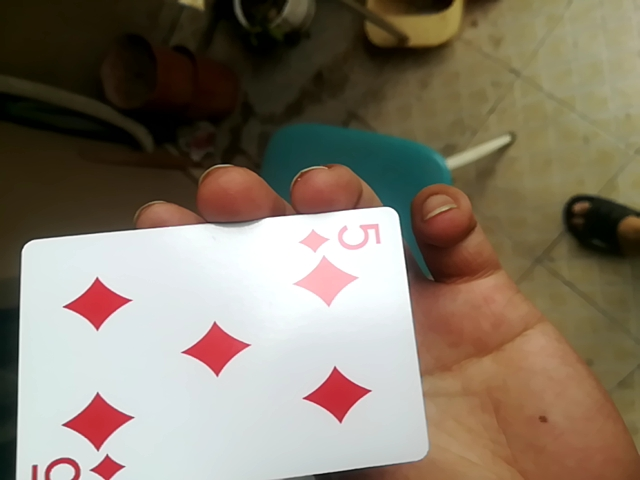fk 5: (12, 198, 428, 480)
